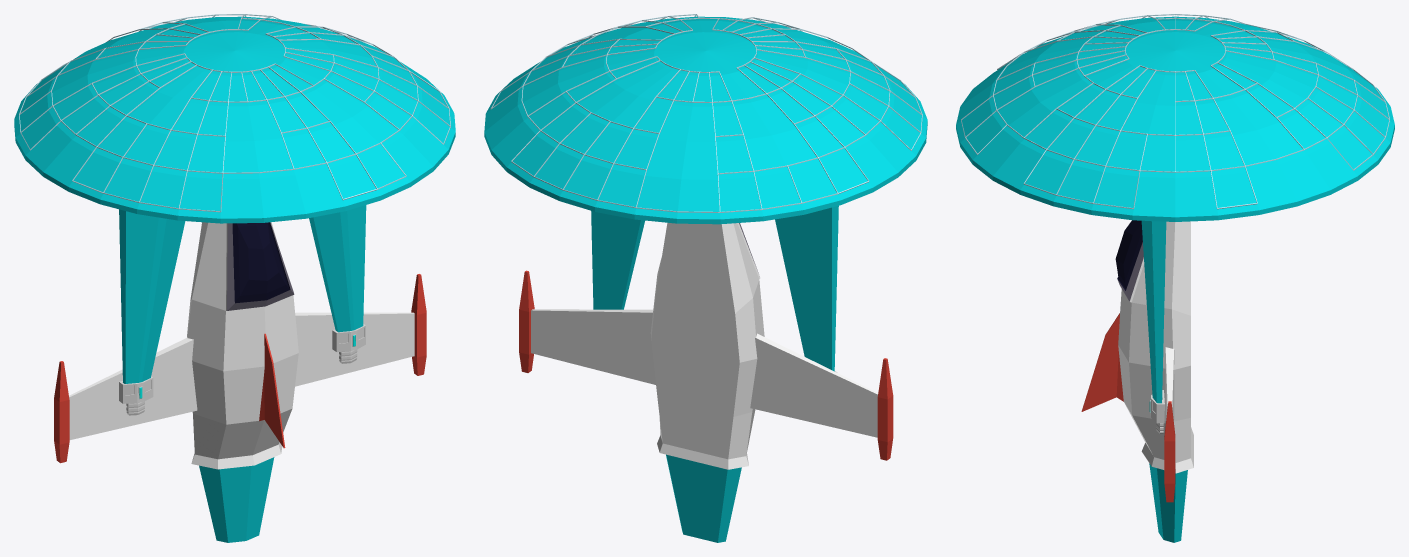
File: ракета.fbx
3 renders of one model, left to right at view 1: azimuth 30°, elevation 25°; view 2: azimuth 150°, elevation 25°; view 3: azimuth 270°, elevation 25°, orthographic.
Visible parts, largest first — view 1: ракета; view 2: ракета; view 3: ракета.
Boxes of the visible parts, x1=… form: ракета: x1=14, y1=14, x2=455, y2=542; ракета: x1=484, y1=14, x2=927, y2=542; ракета: x1=956, y1=14, x2=1394, y2=542.
Bounding box in the file's own units: 694 × 839 × 694.
